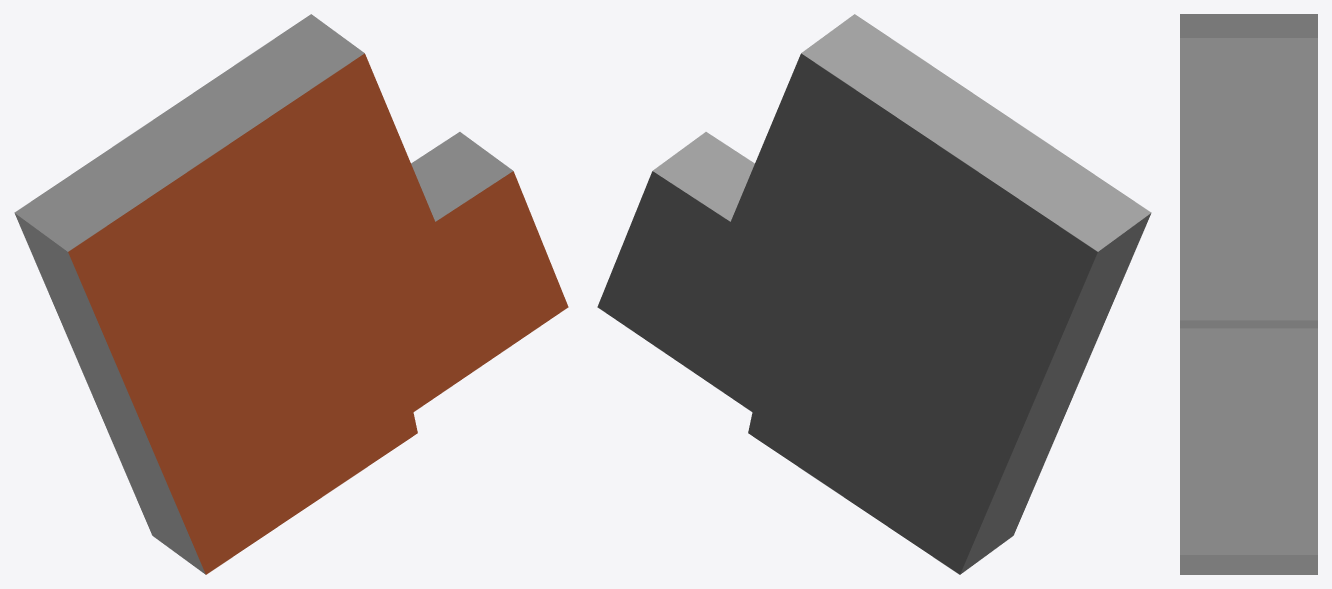
File: construction_1098_assumed_A_Casa_h6m.obj
The picture shows the model from 3 angles, left to right: view 1: azimuth 30°, elevation 25°; view 2: azimuth 150°, elevation 25°; view 3: azimuth 270°, elevation 25°; orthographic projection. The views are drawn at different scales.
Parts seen in each view (by area): view 1: construction_1098_assumed_A_Casa; view 2: construction_1098_assumed_A_Casa; view 3: construction_1098_assumed_A_Casa.
Boxes of the visible parts, box(x1,y1,x2,y2) form: construction_1098_assumed_A_Casa: box(14, 14, 568, 574); construction_1098_assumed_A_Casa: box(597, 14, 1151, 574); construction_1098_assumed_A_Casa: box(1180, 14, 1317, 574).
Size of the model in its own units: 32.31 by 29.79 by 6.
